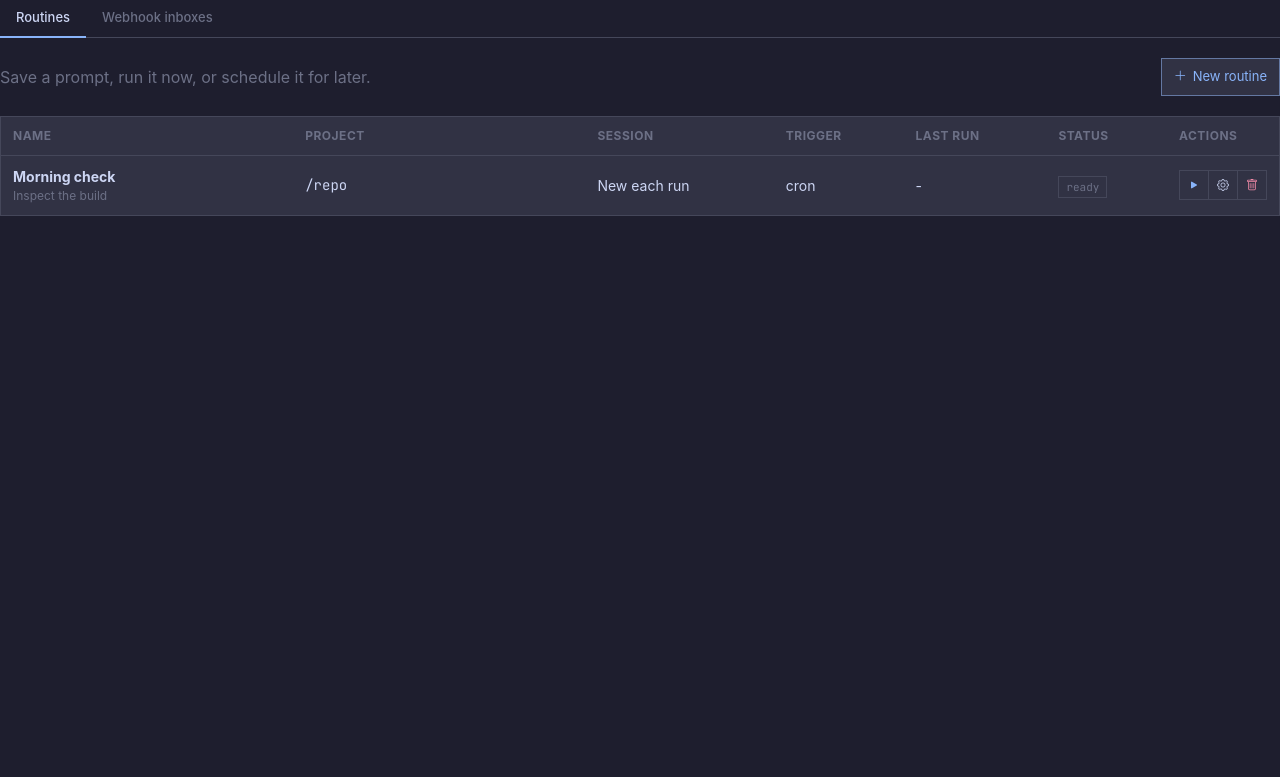
Routines › omits hidden lookup aliases from the existing session model list
Click the button "New routine" at coordinates (1220, 76), box [1161,58,1279,96]
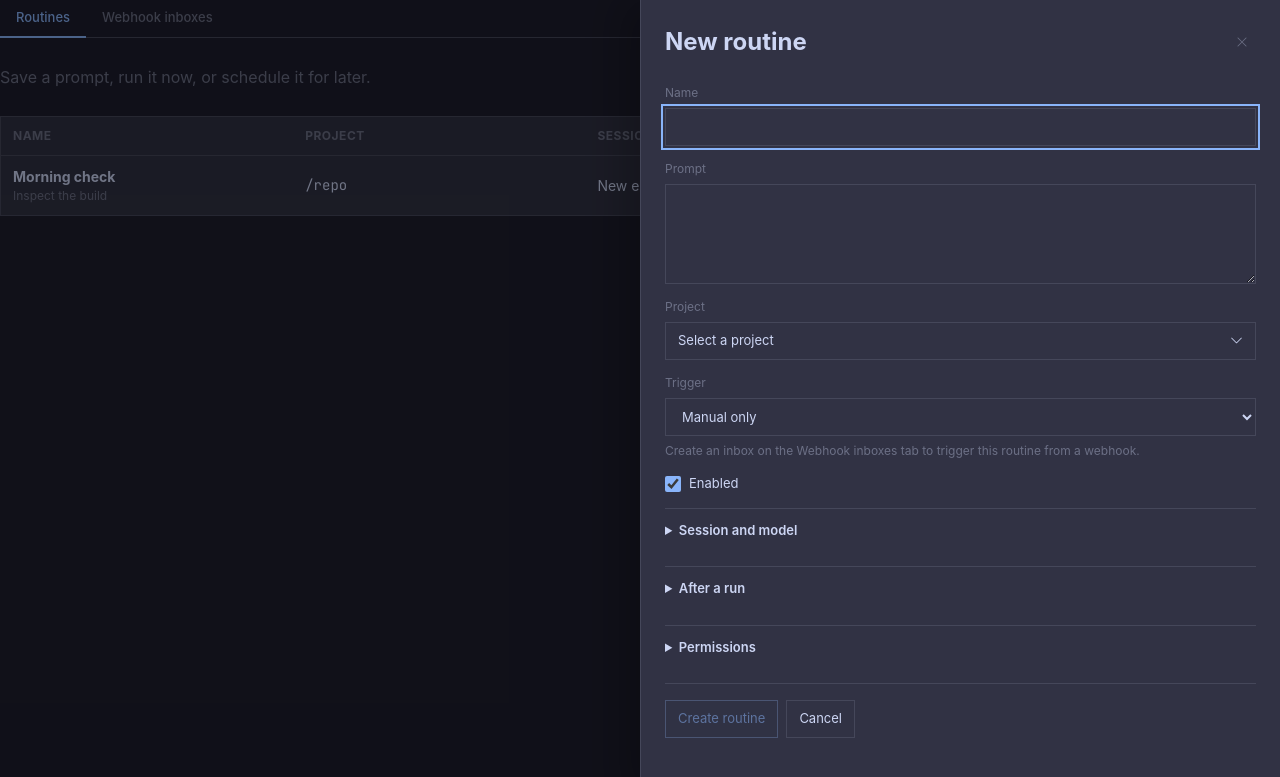
Click the dropdown labelled "project" at coordinates (726, 340), box [665,322,1256,360]
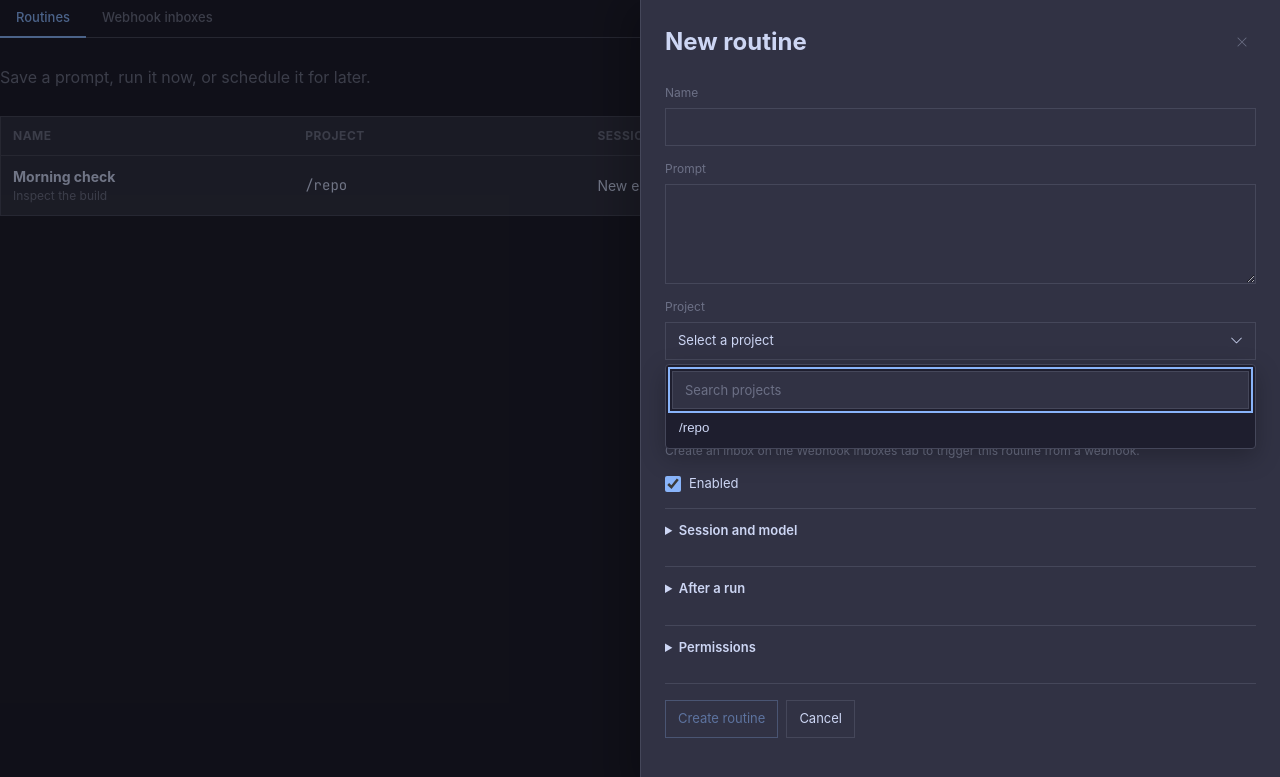
Click the option "/repo" at coordinates (694, 428), box [672,413,1249,442]
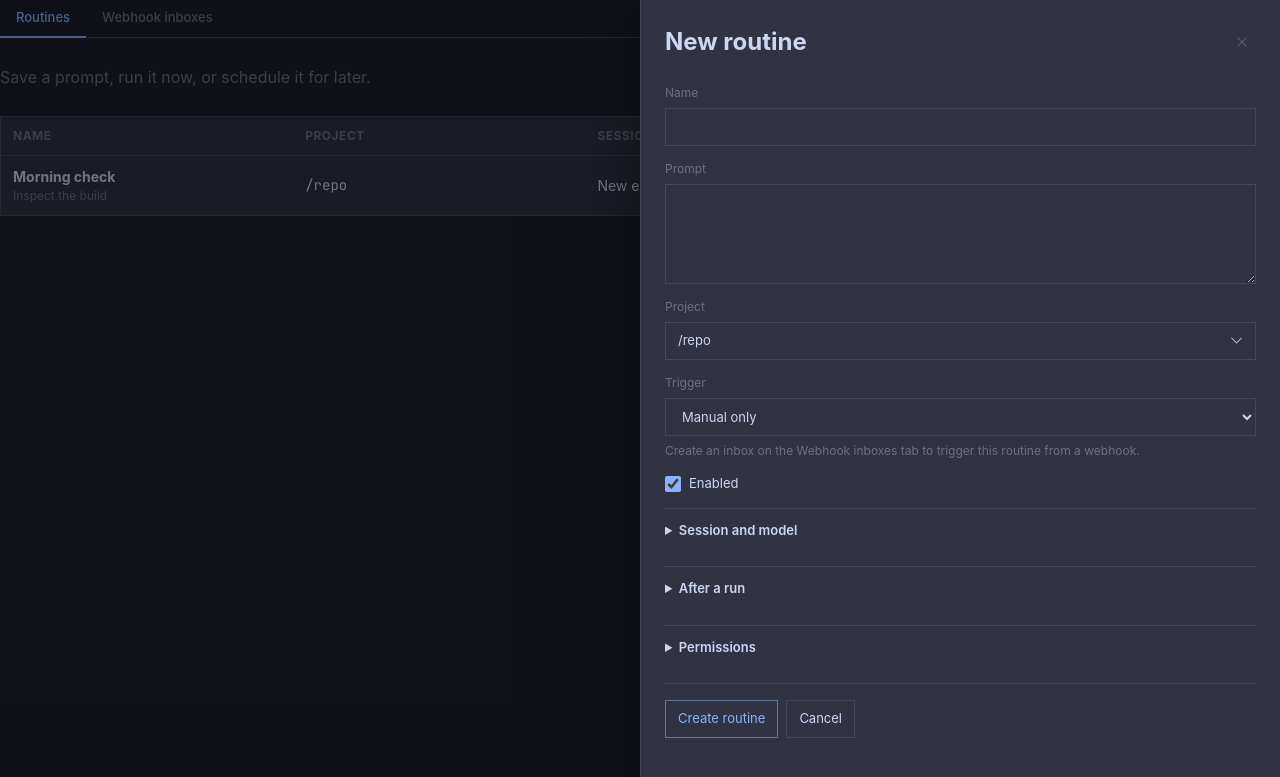
Click the heading "Session and model" at coordinates (738, 530), box [679,522,797,538]
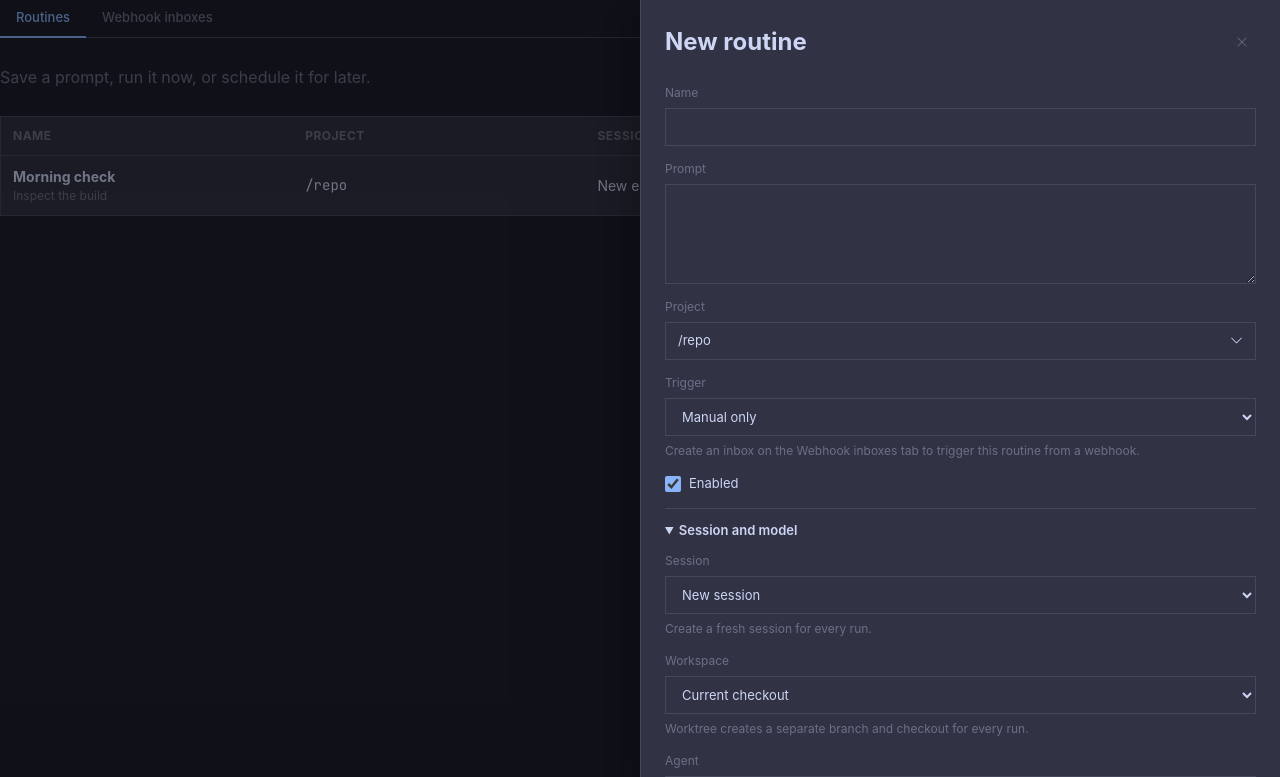
Select "Existing session" in the dropdown labelled "Session" at coordinates (960, 595), box [665,576,1256,614]
(page scrolled)
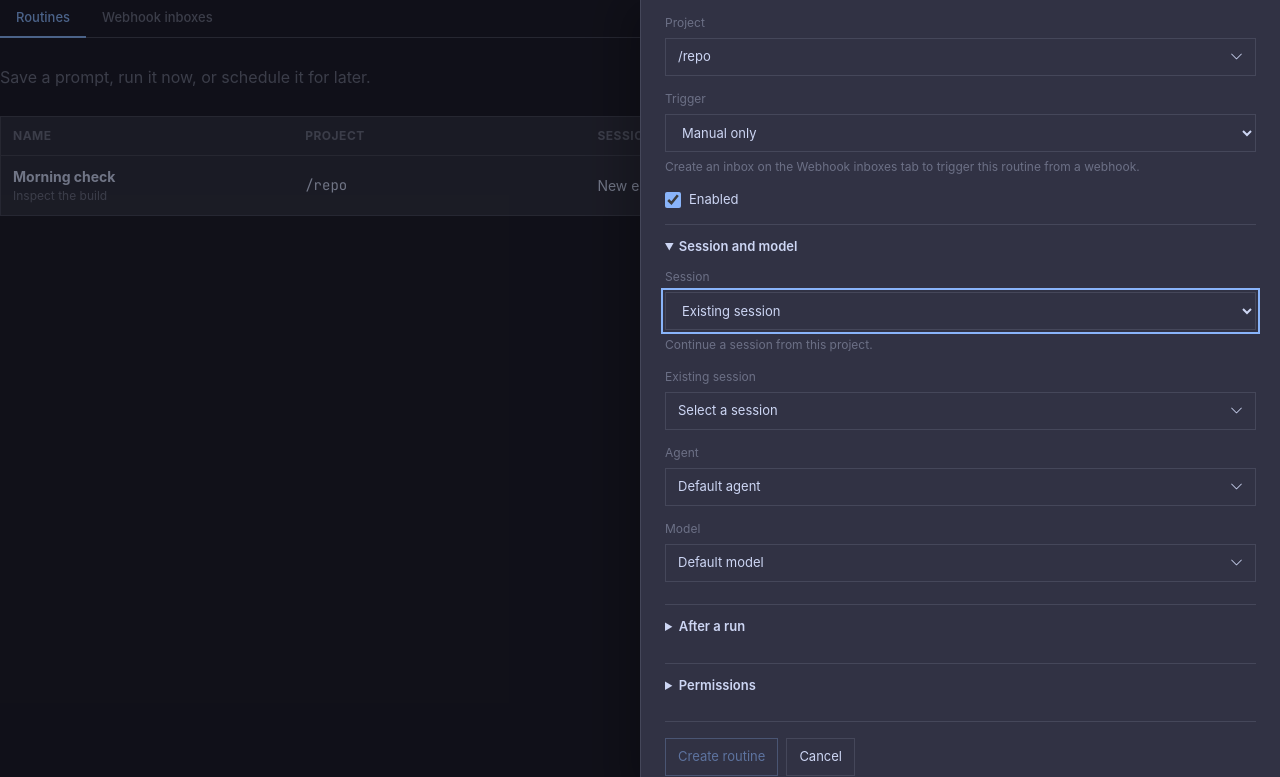
Check: the dropdown labelled "model" is enabled
Click the dropdown labelled "model" at coordinates (721, 562), box [665,544,1256,582]
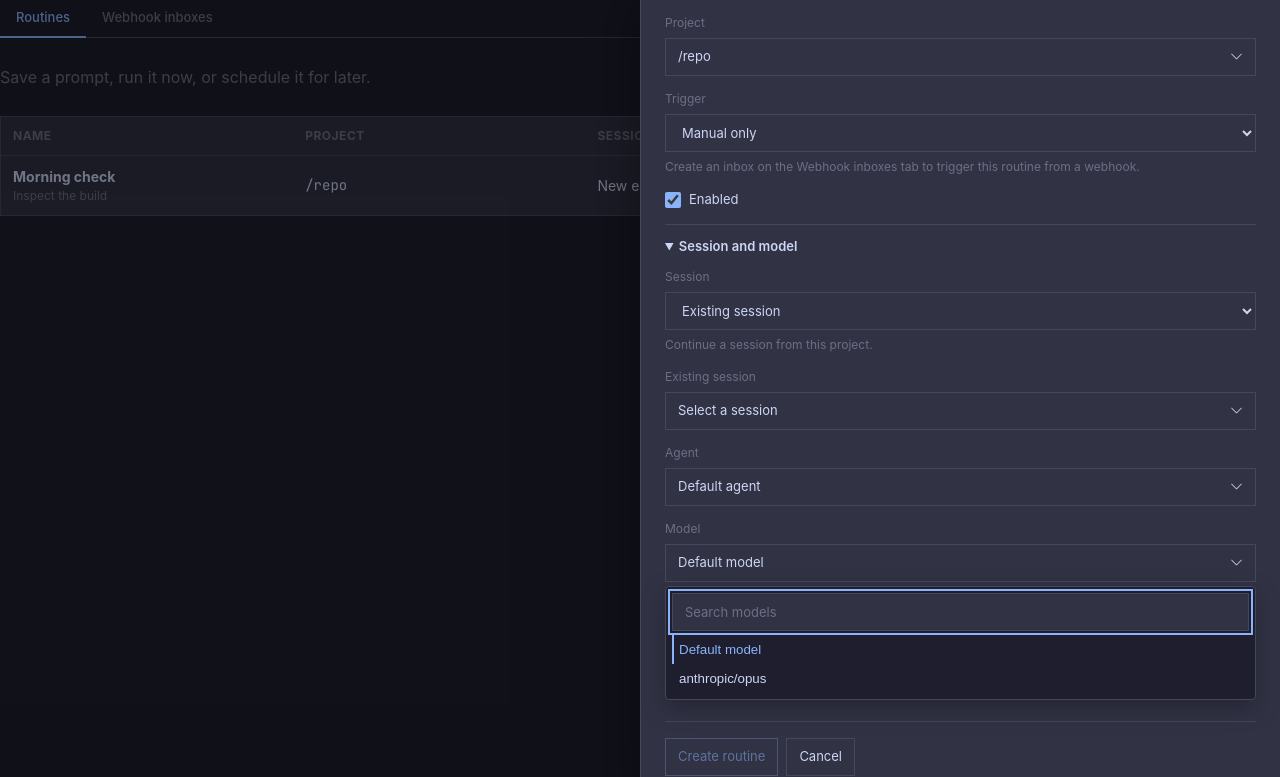
Check: the option "anthropic/opus" is shown, box [672,664,1249,693]
